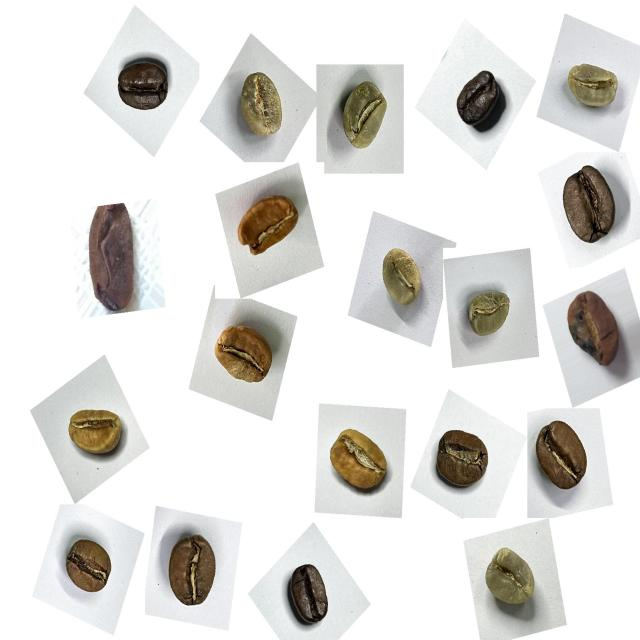bad: (72, 193, 150, 323), (560, 285, 633, 380)
dark: (110, 47, 179, 125), (448, 60, 514, 138), (278, 553, 339, 635)
green: (474, 540, 548, 628), (329, 70, 398, 164), (228, 64, 295, 152), (371, 240, 432, 321), (559, 53, 628, 123), (457, 280, 520, 350)
light: (320, 416, 398, 508), (230, 181, 308, 268), (206, 311, 282, 397), (58, 396, 133, 471)
medium: (550, 157, 628, 254), (156, 526, 228, 620), (527, 413, 599, 504), (428, 419, 498, 500), (57, 529, 122, 606)
